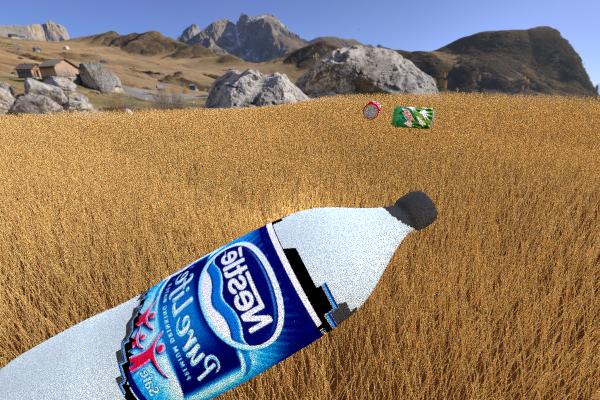bottle: (0, 192, 431, 400)
can: (266, 159, 342, 243), (261, 100, 287, 114)
